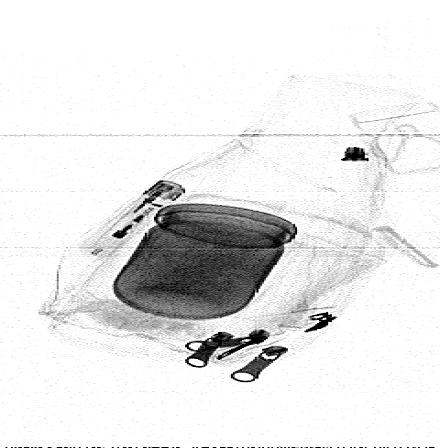Lighter: (75, 179, 187, 257)
